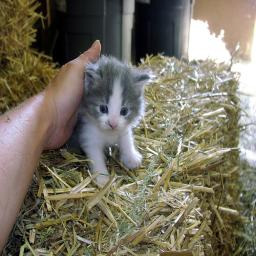catnose: (108, 122, 117, 130)
